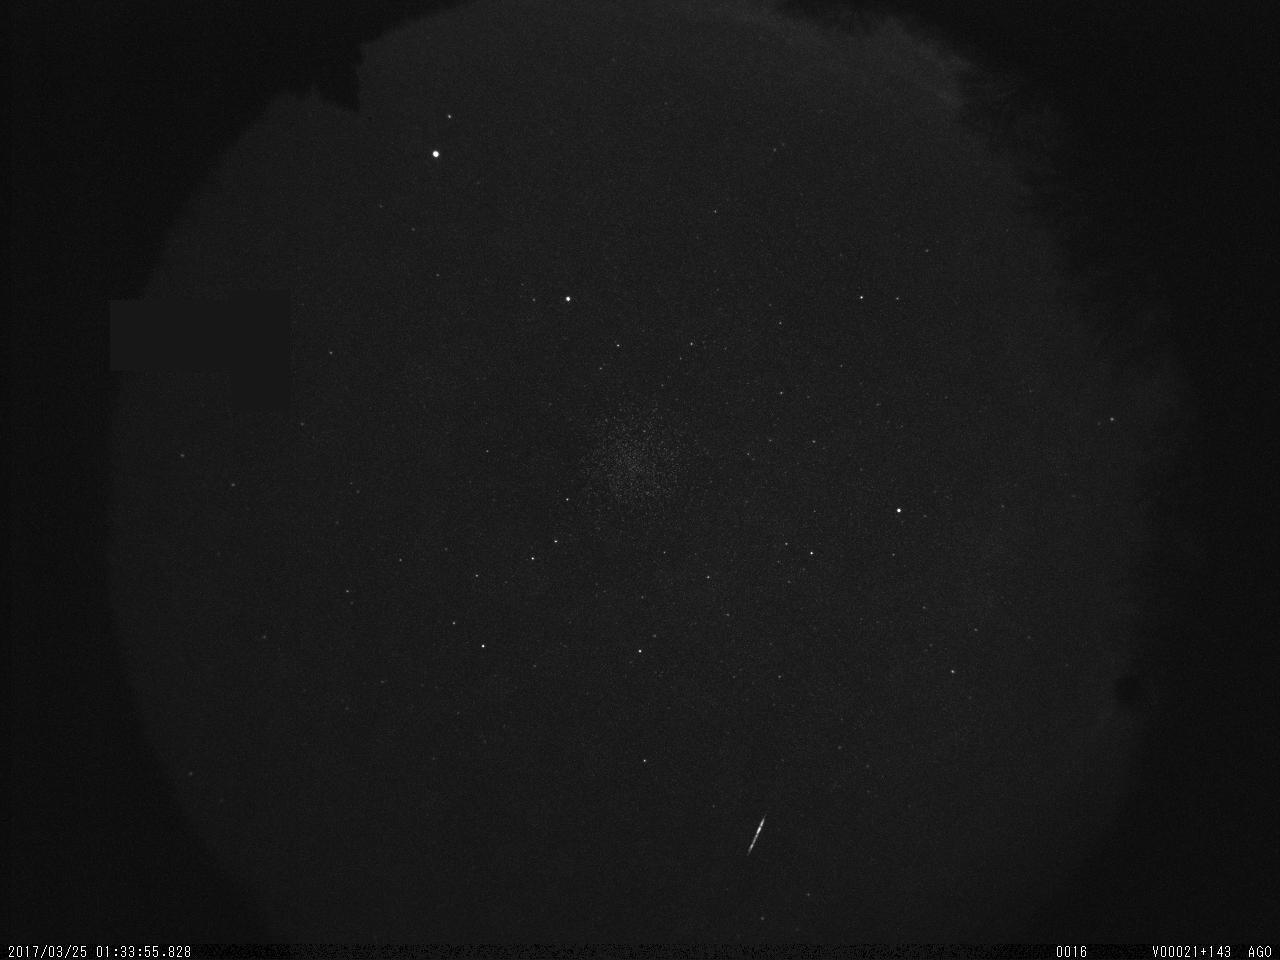meteor: (736, 800, 786, 871)
